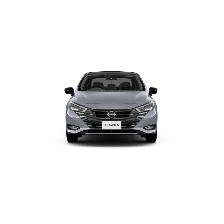NON-EV: (66, 72, 161, 146)
